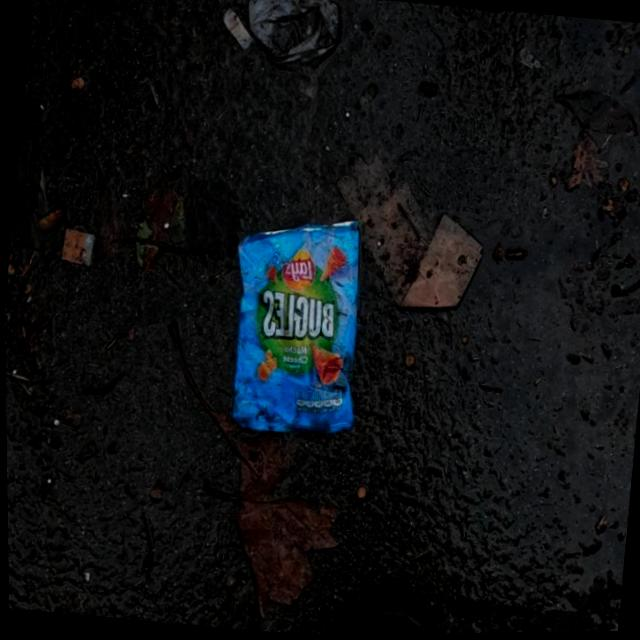Plastic: (216, 205, 375, 444), (321, 142, 494, 318)
